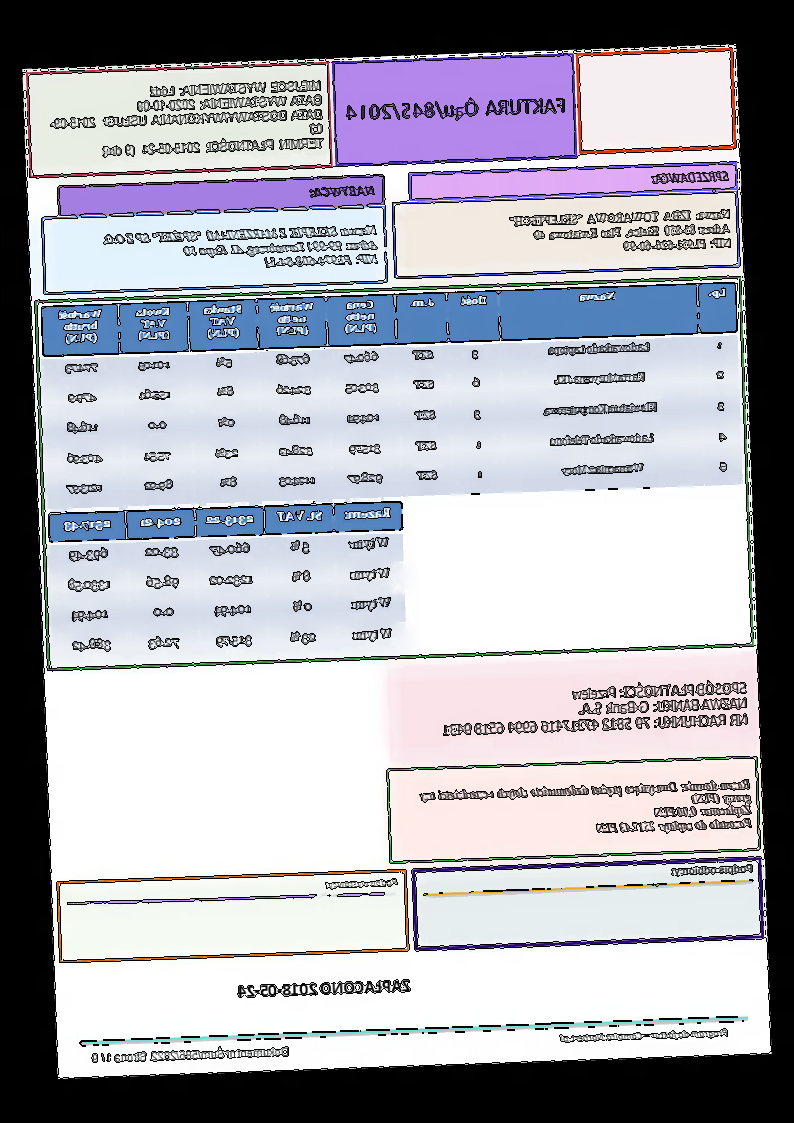Table: (42, 279, 745, 508), (47, 499, 408, 667)
TextBox: (46, 75, 327, 163), (416, 775, 755, 842), (437, 676, 751, 741), (101, 220, 380, 274), (507, 204, 735, 260), (344, 91, 569, 127), (234, 975, 412, 1002), (92, 1042, 293, 1065), (559, 1025, 731, 1045), (668, 860, 756, 879), (325, 872, 400, 893), (650, 168, 731, 187), (307, 181, 379, 201)
